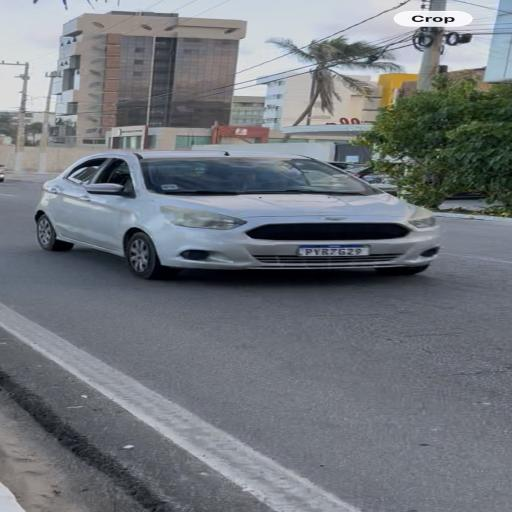detec-o-placas: (261, 232, 395, 272)
